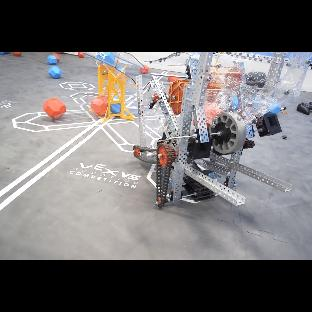Autolimit: (0, 117, 115, 212), (0, 122, 100, 197), (125, 96, 135, 101), (143, 82, 149, 90), (126, 103, 134, 107), (143, 88, 148, 94), (158, 76, 163, 81), (161, 71, 165, 74), (164, 72, 169, 74), (156, 76, 160, 78)
Med_goal: (84, 52, 145, 122)
Robot: (133, 52, 312, 207)
V5_BLUE: (95, 52, 115, 64), (48, 67, 62, 79), (269, 106, 286, 114), (47, 54, 59, 65), (111, 104, 121, 113), (232, 98, 238, 107), (0, 52, 10, 55)
V5_RED: (43, 98, 66, 119), (205, 107, 223, 127), (91, 96, 108, 116), (140, 65, 149, 74), (52, 53, 60, 63), (168, 77, 177, 82), (77, 52, 84, 58), (12, 52, 21, 56), (56, 52, 65, 54), (169, 73, 176, 75)
blueingoal: (96, 52, 115, 65), (111, 104, 120, 113)
redingoal: (43, 98, 66, 120), (90, 97, 108, 116)
redinrobot: (204, 106, 223, 127), (193, 117, 196, 126)
